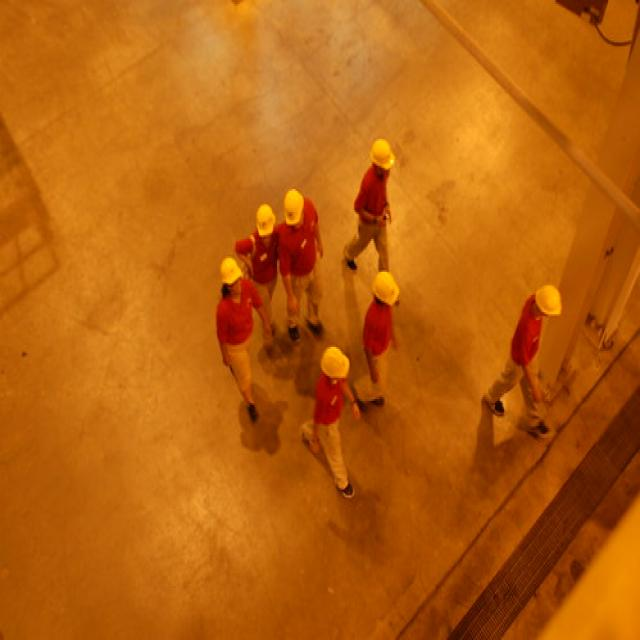Reflective-Jacket: (277, 202, 321, 278), (351, 168, 394, 233)
Safety-Helmet: (531, 277, 566, 324), (368, 266, 403, 310), (317, 341, 351, 384), (367, 133, 399, 177), (281, 185, 308, 228), (217, 253, 245, 289), (253, 199, 278, 239)
